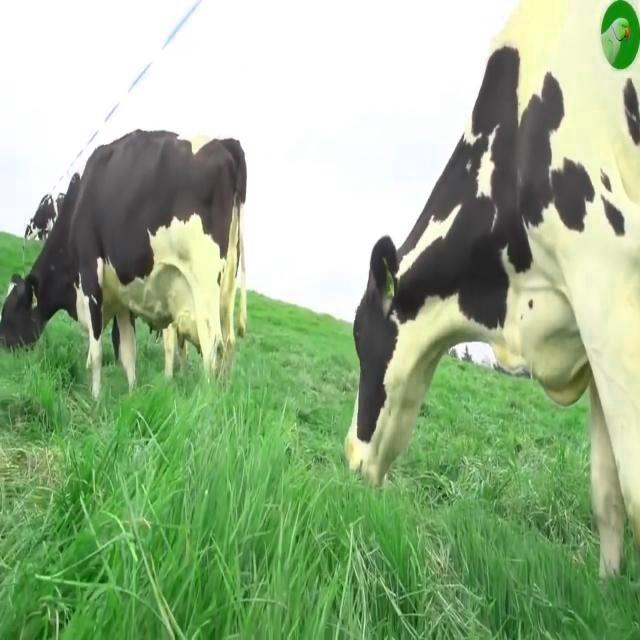cow: (0, 130, 246, 397)
